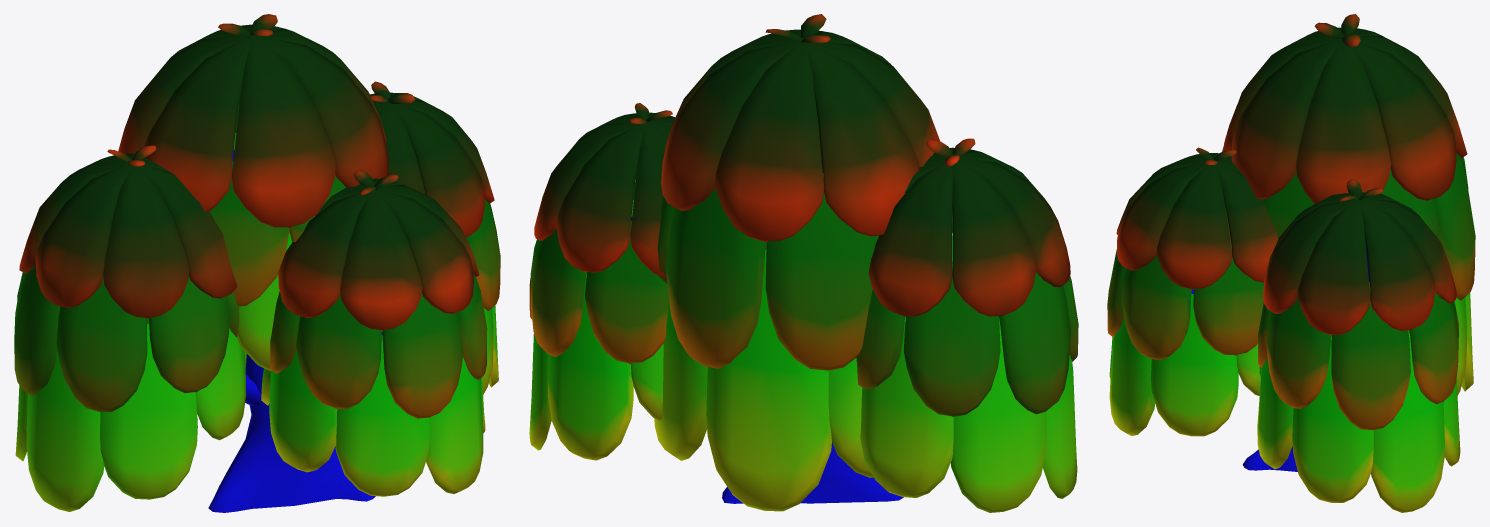
Rendered from SM_WeepingWillow_01_LOD0.fbx.
3 views of the same model, side by side, from view 1: azimuth 30°, elevation 25°; view 2: azimuth 150°, elevation 25°; view 3: azimuth 270°, elevation 25° (orthographic). The views are drawn at different scales.
Parts seen in each view (by area): view 1: SM_WeepingWillow_01_LOD0; view 2: SM_WeepingWillow_01_LOD0; view 3: SM_WeepingWillow_01_LOD0.
Part boxes in pixels (left/top/right/bottom): SM_WeepingWillow_01_LOD0: left=14, top=14, right=500, bottom=512; SM_WeepingWillow_01_LOD0: left=529, top=14, right=1078, bottom=512; SM_WeepingWillow_01_LOD0: left=1107, top=14, right=1475, bottom=512.
Size of the model in its own units: 1500 by 1101 by 1366.
